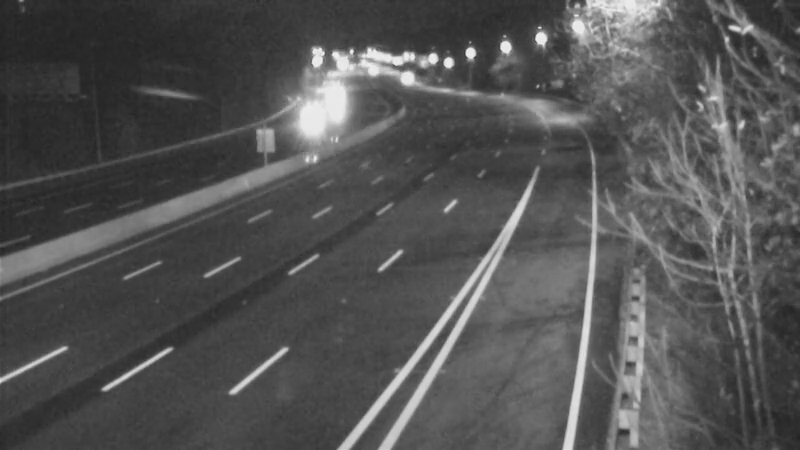vehicle: (380, 55, 430, 105), (288, 95, 338, 145)
